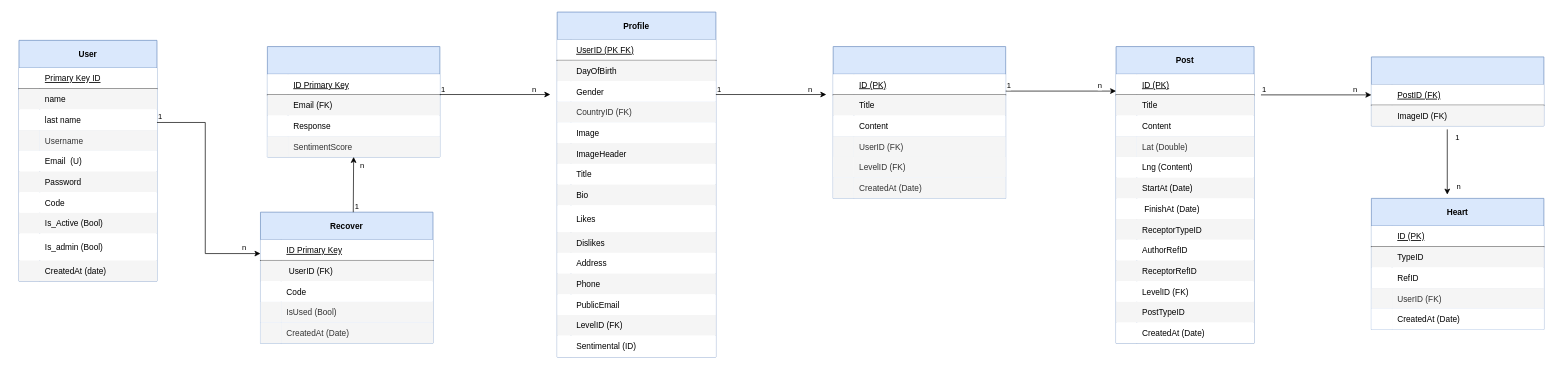
Image size: 1556x369. Some labels were removed from this diagram. The shapes that lost their labels are listed below. From the top down, each one's box as (x1, y1, x2, y2) in pixels, then its label:
(267, 46, 440, 157): User_Response
(1371, 56, 1544, 126): Post_Image
(832, 46, 1006, 198): Album
